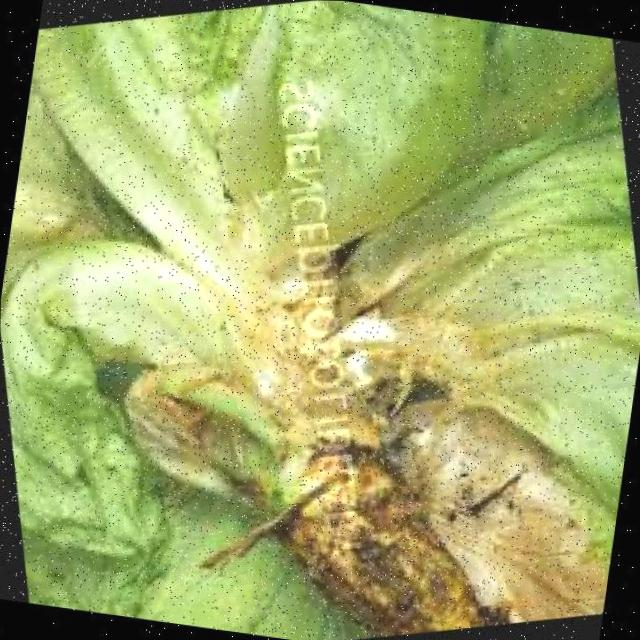Septoria_Blight: (0, 49, 640, 640)
